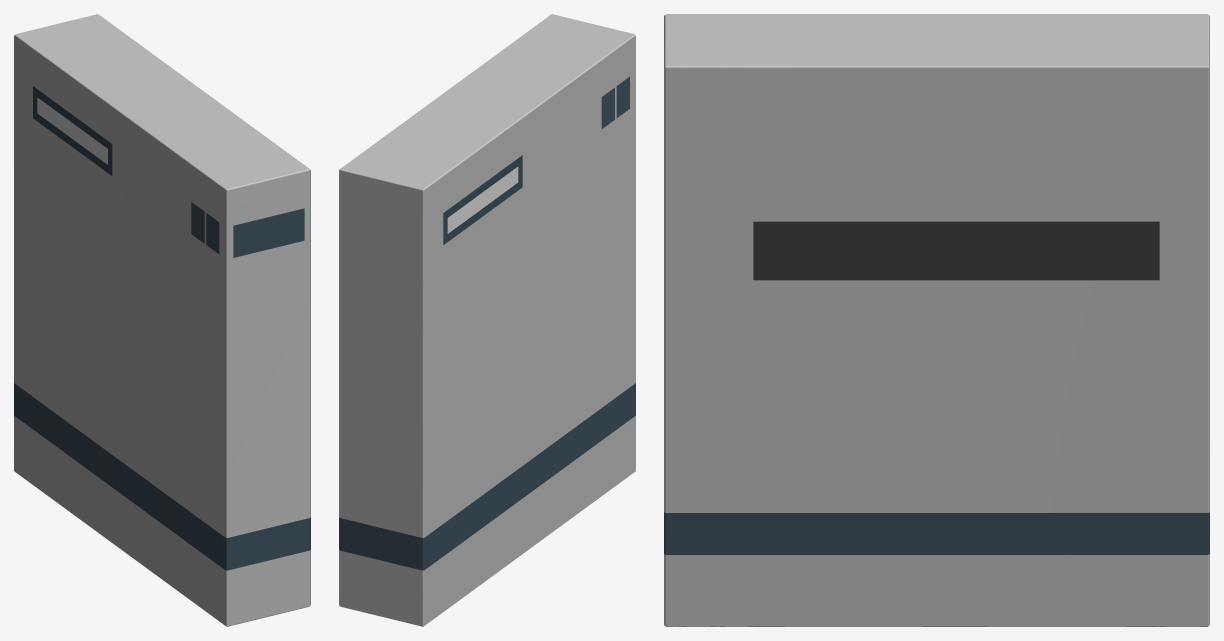
The picture shows the model from 3 angles, left to right: view 1: azimuth 30°, elevation 25°; view 2: azimuth 150°, elevation 25°; view 3: azimuth 270°, elevation 25°; orthographic projection. The views are drawn at different scales.
Parts seen in each view (by area): view 1: SM_Box_E_D; view 2: SM_Box_E_D; view 3: SM_Box_E_D.
Boxes of the visible parts, left/top/right/bottom form: SM_Box_E_D: left=14, top=14, right=310, bottom=626; SM_Box_E_D: left=339, top=14, right=635, bottom=626; SM_Box_E_D: left=664, top=14, right=1209, bottom=626.
Bounding box in the file's own units: 21.36 × 105 × 92.29.
